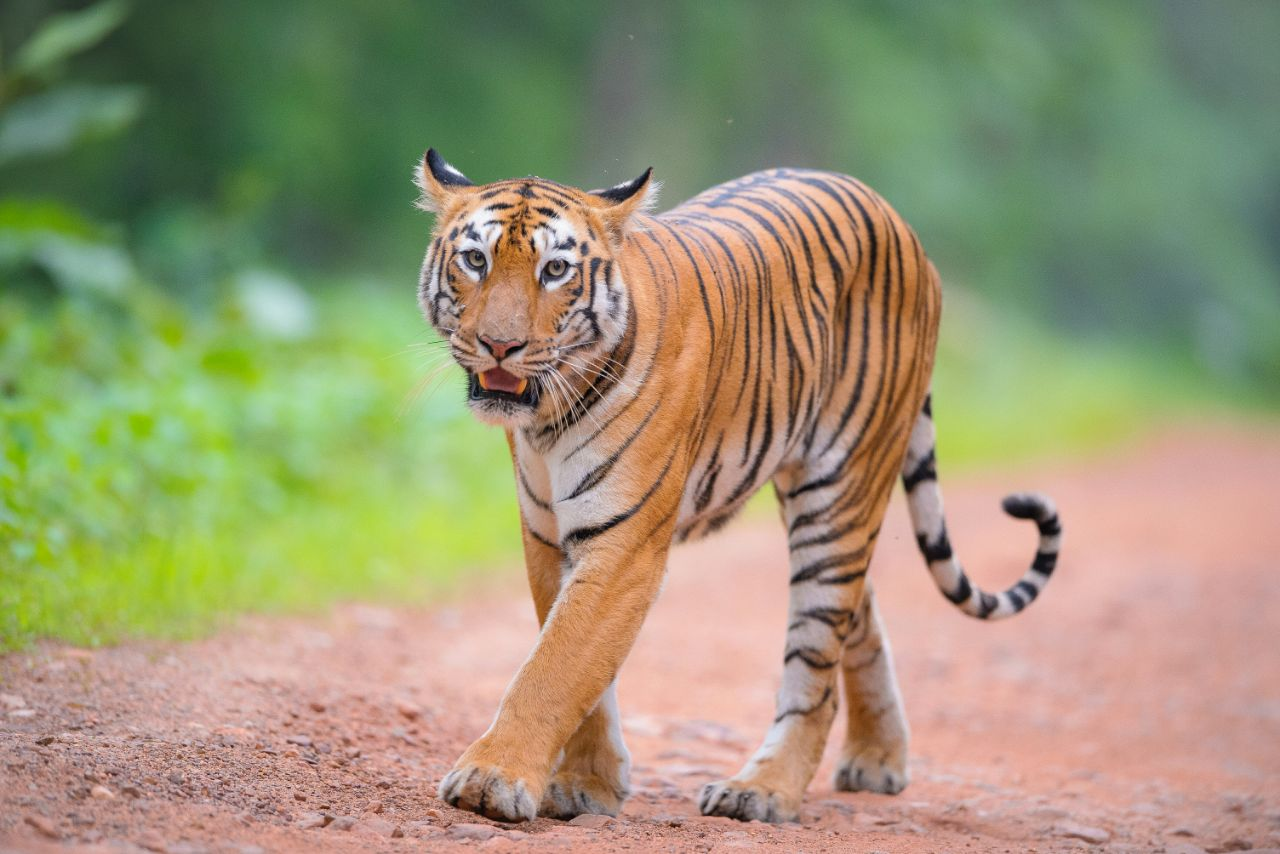Tiger: (386, 120, 1089, 843)
